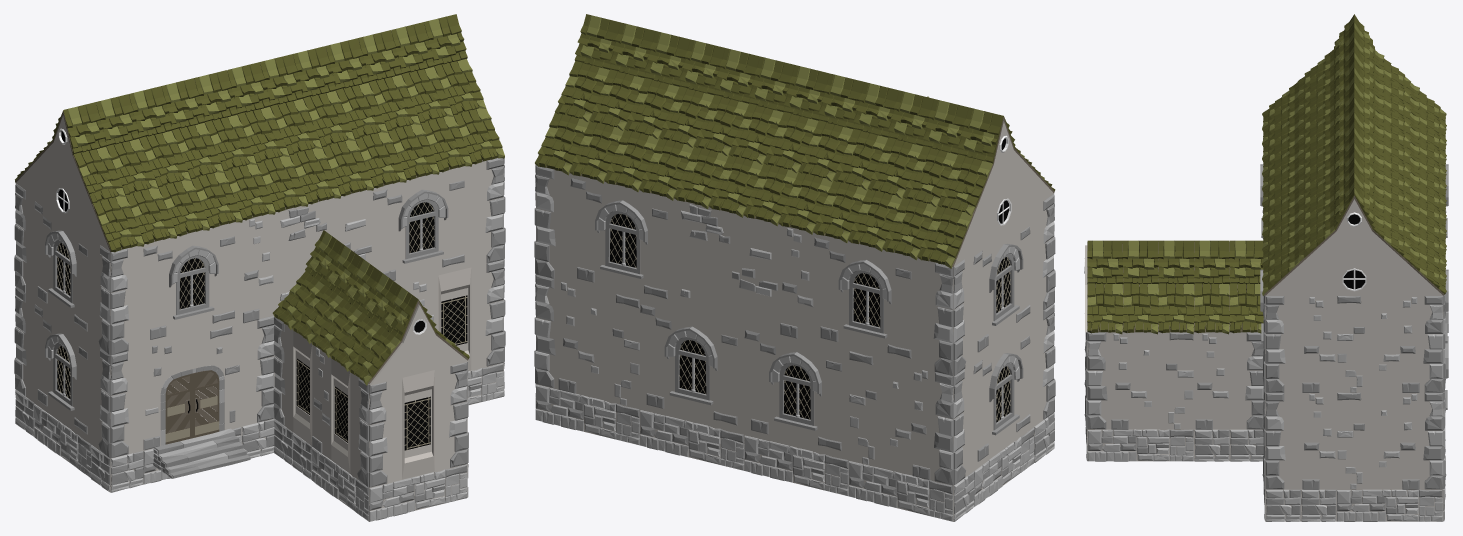
File: HOUSE_20.fbx
3 renders of one model, left to right at view 1: azimuth 30°, elevation 25°; view 2: azimuth 150°, elevation 25°; view 3: azimuth 270°, elevation 25°, orthographic. The views are drawn at different scales.
Visible parts, largest first — view 1: DOOR_02_4, WINDOW_03_31, WINDOW_03_36, WALL_01_3, WINDOW_03_29, WINDOW_03_30, WALL_05_10, WALL_05_13, WALL_06_5, WALL_07_7, WALL_07_15, FOUNDATION_03_12 (+80 smaller); view 2: WINDOW_03_33, WALL_04_3, WINDOW_03_35, WALL_08_1, WINDOW_03_34, WALL_01_2, WINDOW_03_32, WINDOW_03_30, WINDOW_03_29, WALL_06_15, WALL_07_13, FOUNDATION_03_5 (+51 smaller); view 3: WALL_08_3, WALL_08_2, WALL_04_1, FOUNDATION_03_11, FOUNDATION_03_9, WALL_06_14, WALL_05_17, WALL_05_16, WALL_06_8, WALL_06_13, WALL_07_17, ROOF_BASE_12 (+72 smaller).
Boxes of the visible parts, x1,y1,x2,y2 form: DOOR_02_4: (143,323,241,450); WINDOW_03_31: (143,222,241,347); WINDOW_03_36: (373,166,471,284); WALL_01_3: (274,190,372,310); WINDOW_03_29: (34,300,91,444); WINDOW_03_30: (34,197,91,341); WALL_05_10: (110,347,143,458); WALL_05_13: (110,246,143,355); WALL_06_5: (241,214,274,323); WALL_07_7: (434,362,468,471); WALL_07_15: (471,259,504,370); FOUNDATION_03_12: (369,464,467,521); WINDOW_03_33: (744,325,849,459); WALL_04_3: (535,274,640,408); WINDOW_03_35: (570,174,675,308); WALL_08_1: (849,351,953,485); WINDOW_03_34: (640,300,744,434); WALL_01_2: (675,199,779,333); WINDOW_03_32: (814,233,918,367); WINDOW_03_30: (973,208,1033,361); WINDOW_03_29: (973,318,1033,470); WALL_06_15: (779,225,814,341); WALL_07_13: (918,259,953,375); FOUNDATION_03_5: (744,434,849,496); WALL_08_3: (1336,295,1443,392); WALL_08_2: (1336,392,1443,489); WALL_04_1: (1087,332,1194,429); FOUNDATION_03_11: (1087,429,1194,461); FOUNDATION_03_9: (1336,489,1443,521); WALL_06_14: (1301,295,1336,392); WALL_05_17: (1265,295,1300,392); WALL_05_16: (1265,392,1300,489); WALL_06_8: (1194,332,1229,429); WALL_06_13: (1301,392,1336,489); WALL_07_17: (1230,332,1263,429); ROOF_BASE_12: (1158,283,1194,334).
Size of the model in its own units: 1223 by 1014 by 1023.
